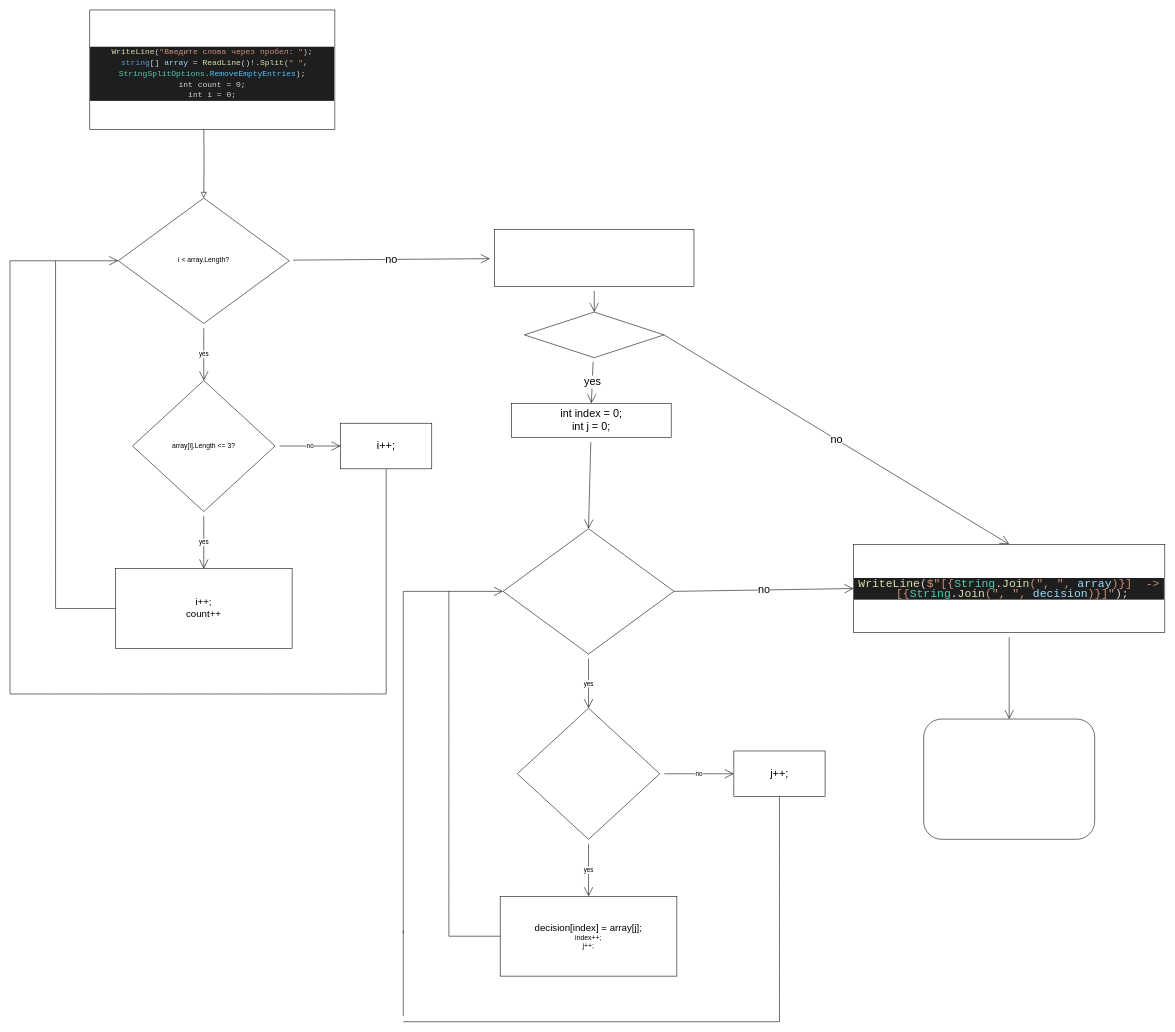
The diagram is 1175 pixels wide and 1032 high, and some of its shapes have lost their labels. Here are the shapes that lost their labels. From the top down, the centre of each, then its label:
At pixel 594 257: "string[] decision = new string[count]; int index = 0; int j = 0;".
At pixel 594 335: "count > 0?".
At pixel 588 591: "j < array.Length?".
At pixel 588 773: "array[j].Length <= 3?".
At pixel 1009 778: "END".
